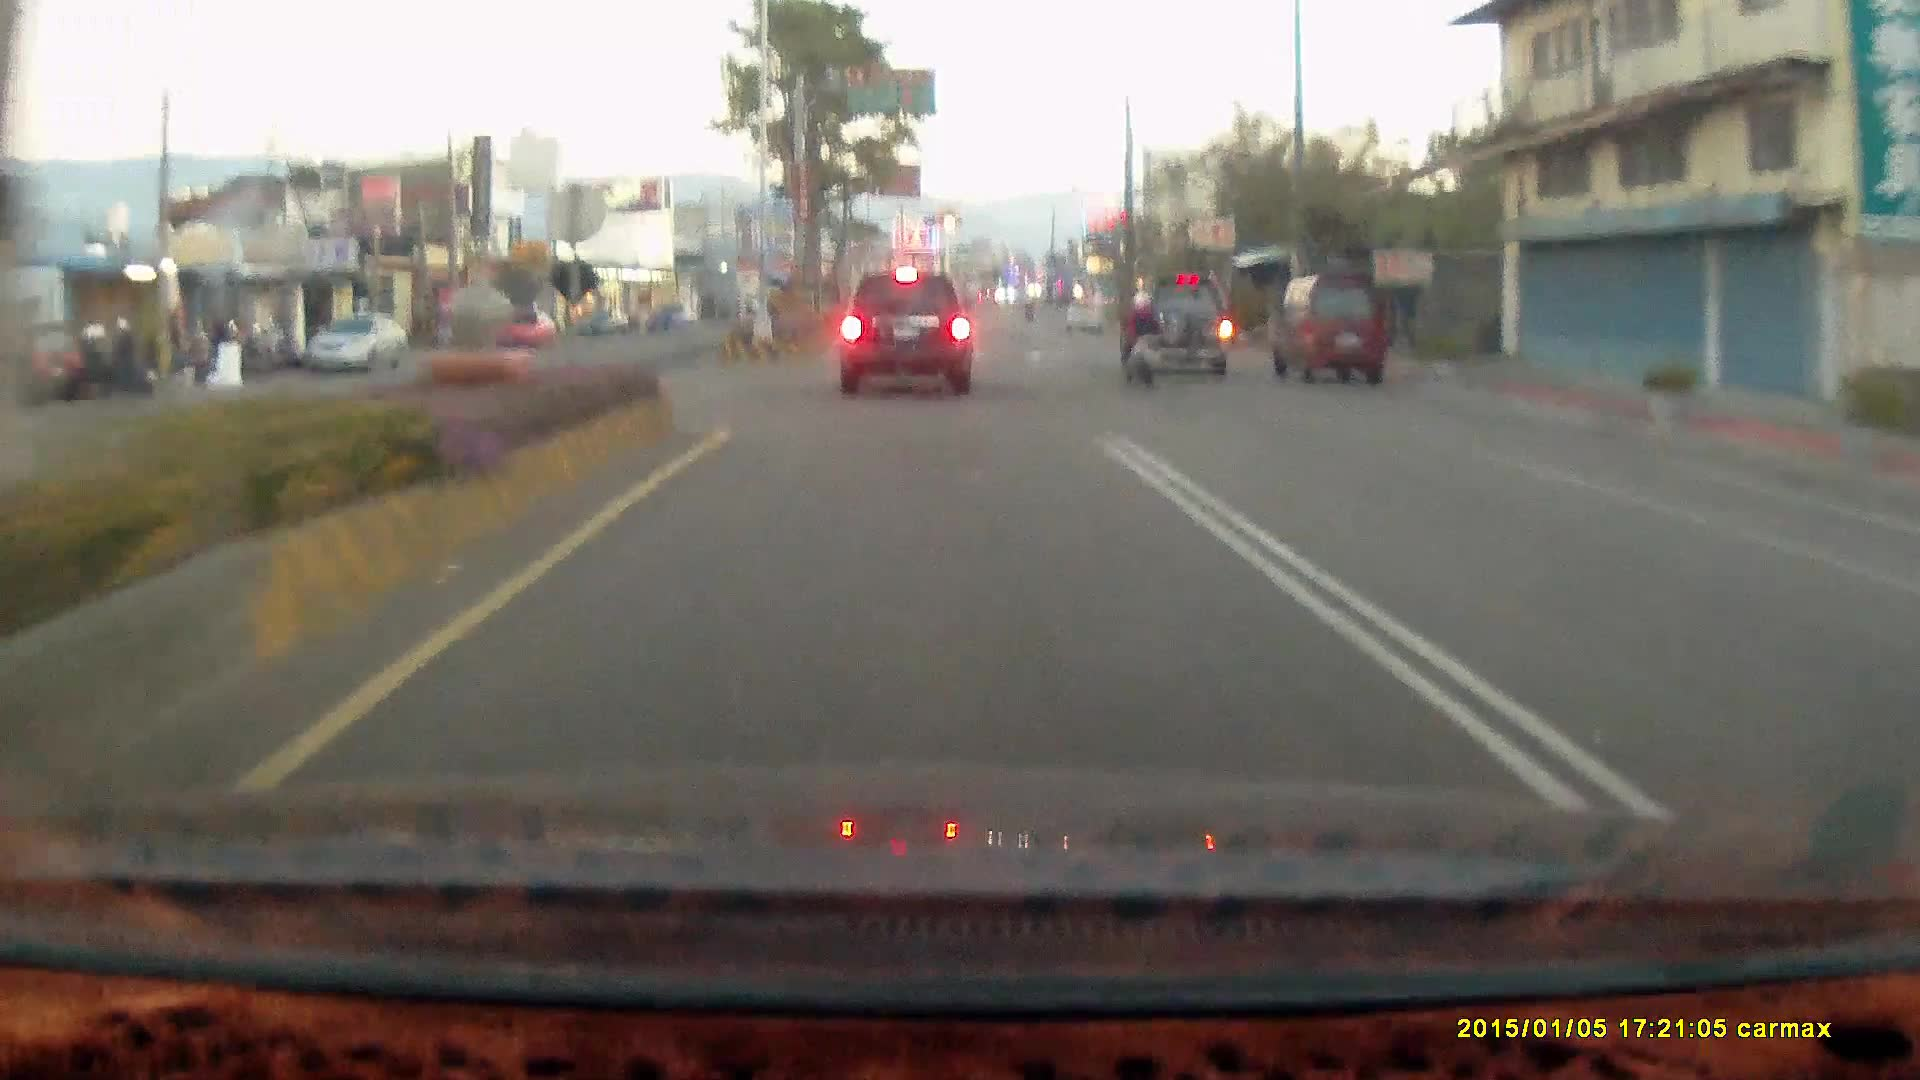pedestrian: (202, 309, 231, 375)
rider: (1116, 289, 1162, 387)
vehicle: (840, 271, 970, 391), (1267, 272, 1385, 385), (1275, 273, 1389, 388), (1137, 276, 1243, 378), (1137, 274, 1232, 375), (1896, 493, 1920, 836), (304, 313, 410, 376), (1883, 528, 1920, 690), (491, 310, 558, 349), (1064, 301, 1102, 331)
